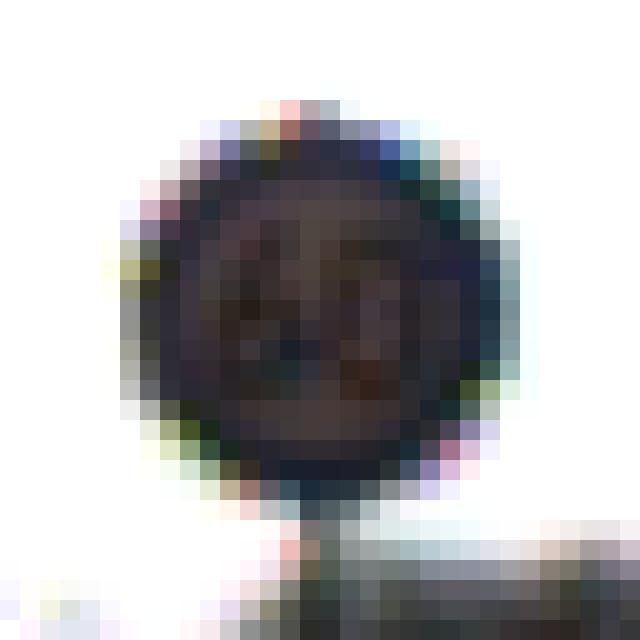SPEED-LIMIT-60: (102, 94, 538, 525)
